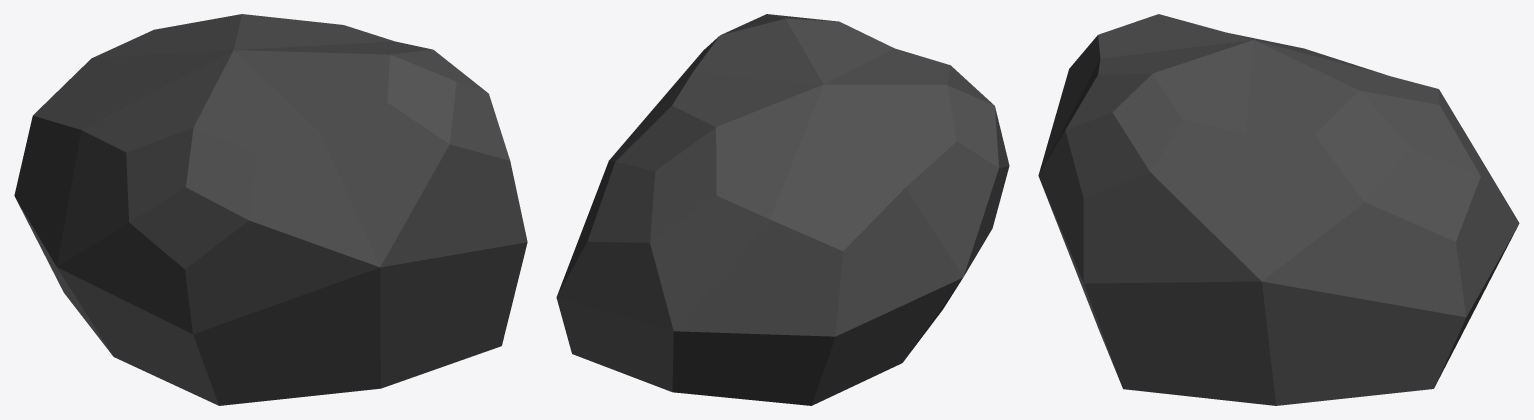
The model's file is Rock_01.fbx.
3 views of the same model, side by side, from view 1: azimuth 30°, elevation 25°; view 2: azimuth 150°, elevation 25°; view 3: azimuth 270°, elevation 25° (orthographic). The views are drawn at different scales.
Parts seen in each view (by area): view 1: Rock_01; view 2: Rock_01; view 3: Rock_01.
Part boxes in pixels (x1=…): Rock_01: x1=14, y1=14, x2=527, y2=405; Rock_01: x1=556, y1=14, x2=1009, y2=405; Rock_01: x1=1038, y1=14, x2=1519, y2=405.
Size of the model in its own units: 75.05 by 58.26 by 82.82.
